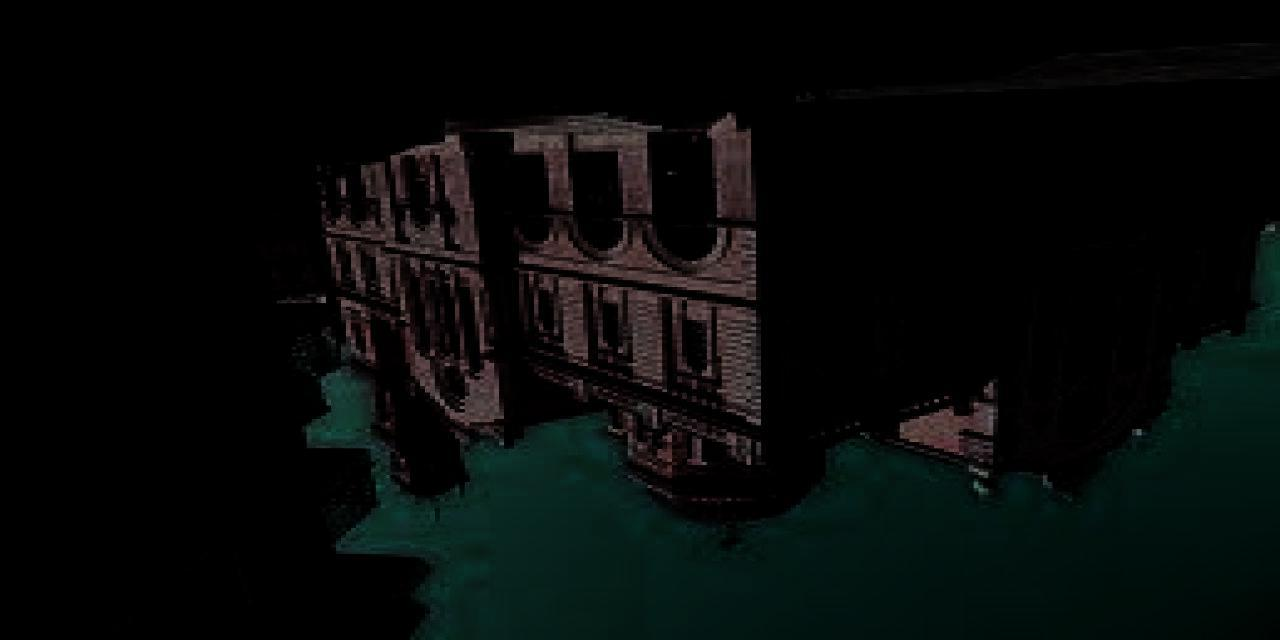Agios Minas: (339, 103, 1262, 561)
